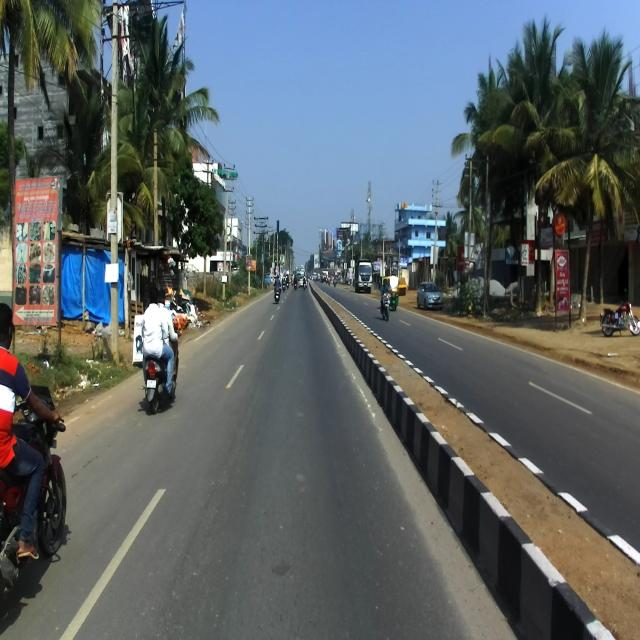motorcycle: (0, 384, 65, 599)
scooter: (140, 325, 181, 414)
